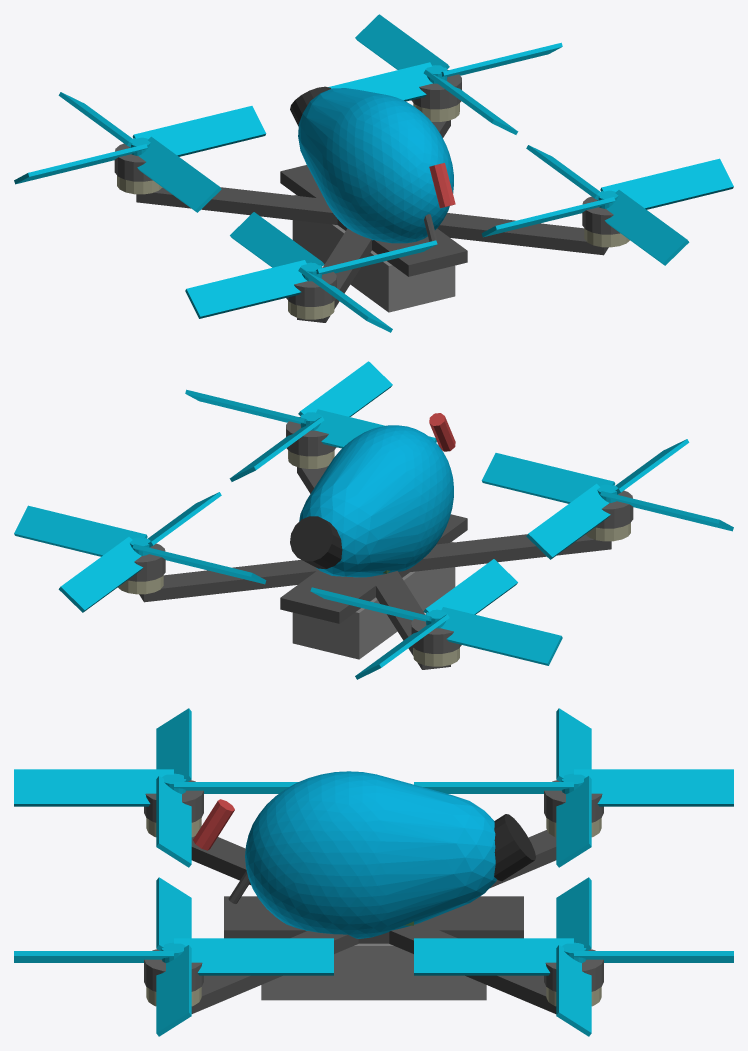
The picture shows the model from 3 angles, top to bottom: view 1: azimuth 30°, elevation 25°; view 2: azimuth 150°, elevation 25°; view 3: azimuth 270°, elevation 25°; orthographic projection. The views are drawn at different scales.
Parts seen in each view (by area): view 1: mat_plastic_canopy, mat_carbon_frame, prop_mat_plastic_2, prop_mat_plastic_0, prop_mat_plastic_1, prop_mat_plastic_3, mat_batt_body, mat_metal_bell_3, mat_metal_bell_1, mat_metal_bell_2, mat_metal_bell_0, mat_plastic_antennatip (+3 smaller); view 2: mat_plastic_canopy, mat_carbon_frame, prop_mat_plastic_1, prop_mat_plastic_3, prop_mat_plastic_2, prop_mat_plastic_0, mat_batt_body, mat_plastic_lensbarrel, mat_metal_bell_0, mat_metal_bell_2, mat_metal_bell_1, mat_metal_bell_3 (+5 smaller); view 3: mat_plastic_canopy, mat_carbon_frame, prop_mat_plastic_0, prop_mat_plastic_3, prop_mat_plastic_2, prop_mat_plastic_1, mat_batt_body, mat_plastic_lensbarrel, mat_plastic_antennatip, mat_metal_bell_0, mat_metal_bell_3, mat_metal_bell_1 (+1 smaller).
Part boxes in pixels (box(x1,y1,x2,y2)): mat_plastic_canopy: box(298, 88, 453, 243); mat_carbon_frame: box(136, 120, 608, 322); prop_mat_plastic_2: box(14, 92, 266, 212); prop_mat_plastic_0: box(481, 145, 733, 265); prop_mat_plastic_1: box(185, 212, 437, 332); prop_mat_plastic_3: box(328, 14, 562, 134); mat_batt_body: box(292, 195, 455, 312); mat_metal_bell_3: box(411, 69, 461, 109); mat_metal_bell_1: box(286, 267, 336, 306); mat_metal_bell_2: box(114, 143, 152, 181); mat_metal_bell_0: box(582, 196, 619, 234); mat_plastic_antennatip: box(429, 163, 455, 208); mat_plastic_canopy: box(299, 425, 453, 577); mat_carbon_frame: box(139, 466, 611, 669); prop_mat_plastic_1: box(481, 439, 733, 559); prop_mat_plastic_3: box(14, 492, 266, 612); prop_mat_plastic_2: box(310, 559, 562, 679); prop_mat_plastic_0: box(185, 361, 436, 481); mat_batt_body: box(292, 542, 455, 659); mat_plastic_lensbarrel: box(290, 516, 342, 568); mat_metal_bell_0: box(286, 416, 336, 456); mat_metal_bell_2: box(411, 614, 461, 653); mat_metal_bell_1: box(595, 490, 633, 528); mat_metal_bell_3: box(128, 543, 165, 581); mat_plastic_canopy: box(245, 771, 496, 938); mat_carbon_frame: box(191, 830, 556, 1013); prop_mat_plastic_0: box(14, 877, 333, 1036); prop_mat_plastic_3: box(414, 877, 733, 1036); prop_mat_plastic_2: box(414, 708, 733, 867); prop_mat_plastic_1: box(14, 708, 297, 867); mat_batt_body: box(261, 943, 486, 1000); mat_plastic_lensbarrel: box(494, 814, 535, 880); mat_plastic_antennatip: box(193, 799, 234, 850); mat_metal_bell_0: box(144, 949, 203, 991); mat_metal_bell_3: box(544, 949, 603, 991); mat_metal_bell_1: box(144, 780, 203, 822).
Size of the model in its own units: 0.144 by 0.0451 by 0.144.
